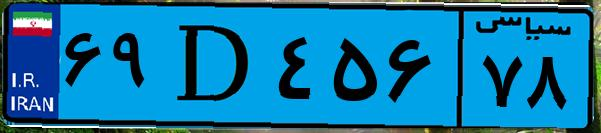4: (270, 28, 330, 110)
5: (330, 28, 385, 110)
6: (385, 28, 445, 110), (57, 26, 110, 100)
7: (475, 38, 525, 113)
8: (525, 38, 570, 115)
9: (110, 28, 158, 98)
D: (158, 12, 270, 120)
